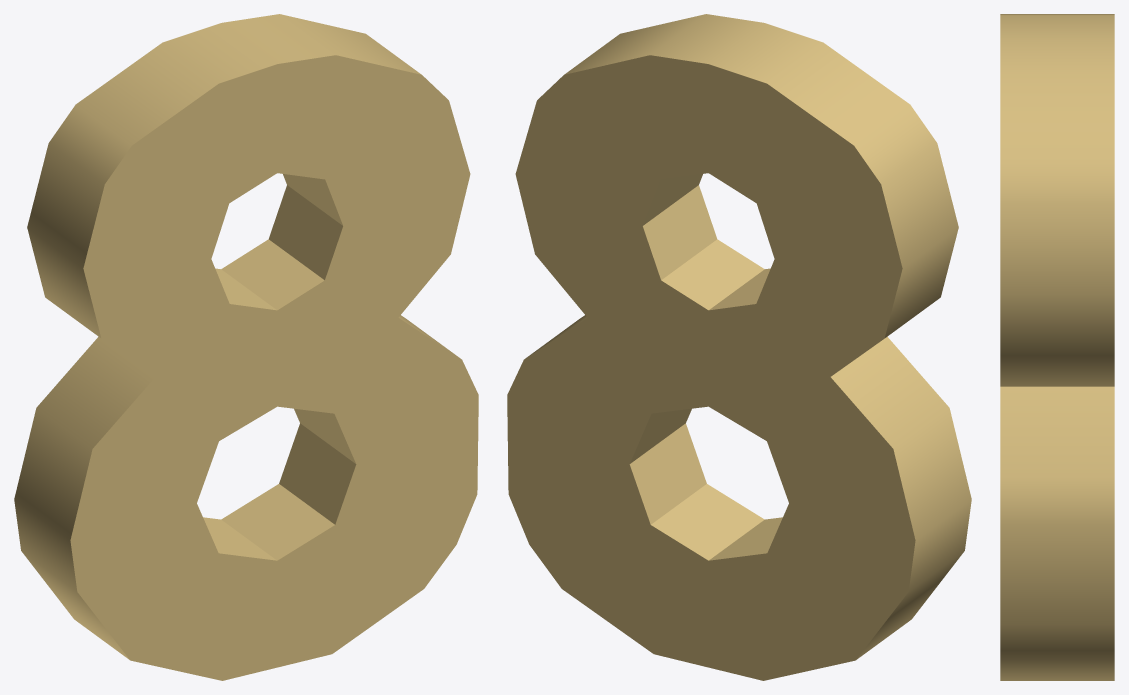
File: kr_num_8.glb
3 views of the same model, side by side, from view 1: azimuth 30°, elevation 25°; view 2: azimuth 150°, elevation 25°; view 3: azimuth 270°, elevation 25° (orthographic).
Visible parts, largest first — view 1: vc_m8_r2; view 2: vc_m8_r2; view 3: vc_m8_r2.
Boxes of the visible parts, <box> form: vc_m8_r2: <box>14,14,478,680</box>; vc_m8_r2: <box>507,14,971,680</box>; vc_m8_r2: <box>1000,14,1114,680</box>.
Size of the model in its own units: 0.2516 by 0.3553 by 0.06.
